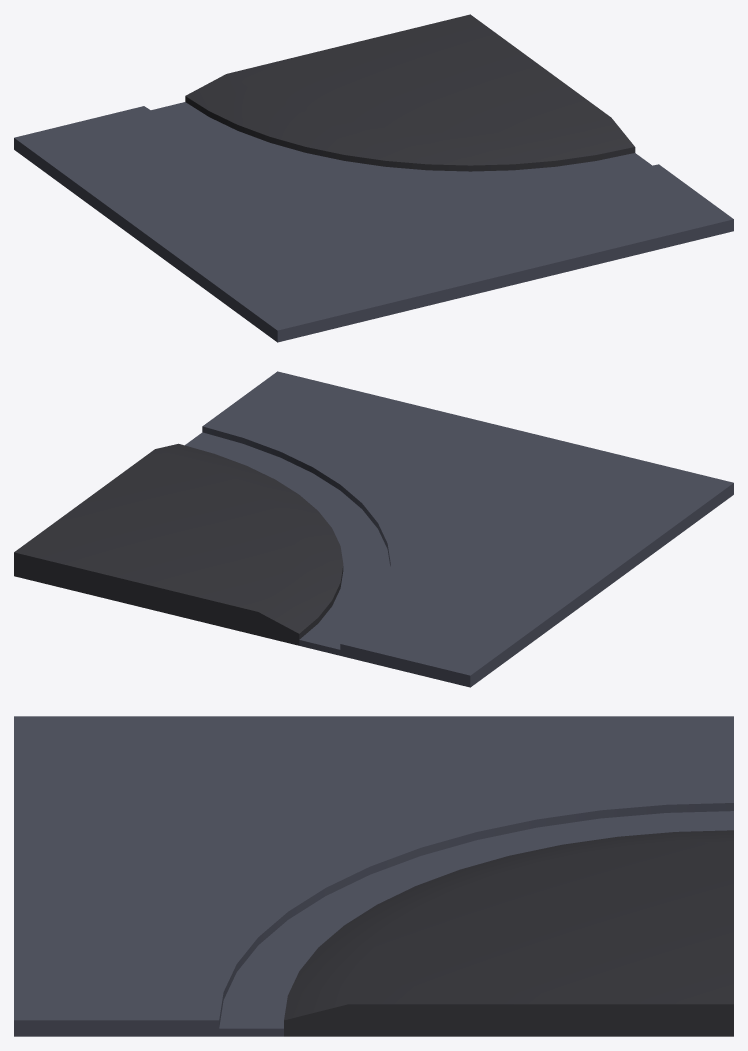
The model's file is road-corner.glb.
3 renders of one model, top to bottom at view 1: azimuth 30°, elevation 25°; view 2: azimuth 150°, elevation 25°; view 3: azimuth 270°, elevation 25°, orthographic. The views are drawn at different scales.
Visible parts, largest first — view 1: road-corner; view 2: road-corner; view 3: road-corner.
Part boxes in pixels (<box>): road-corner: <box>14,14,733,342</box>; road-corner: <box>14,371,733,687</box>; road-corner: <box>14,716,733,1036</box>.
Size of the model in its own units: 1 by 0.05 by 1.
1 material, 1 textured.
